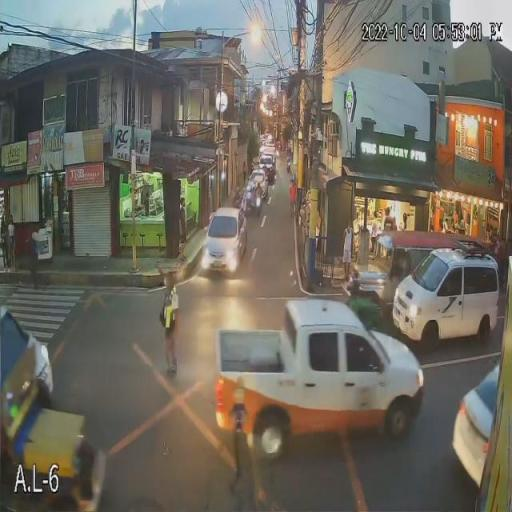helmet: (346, 281, 364, 300)
